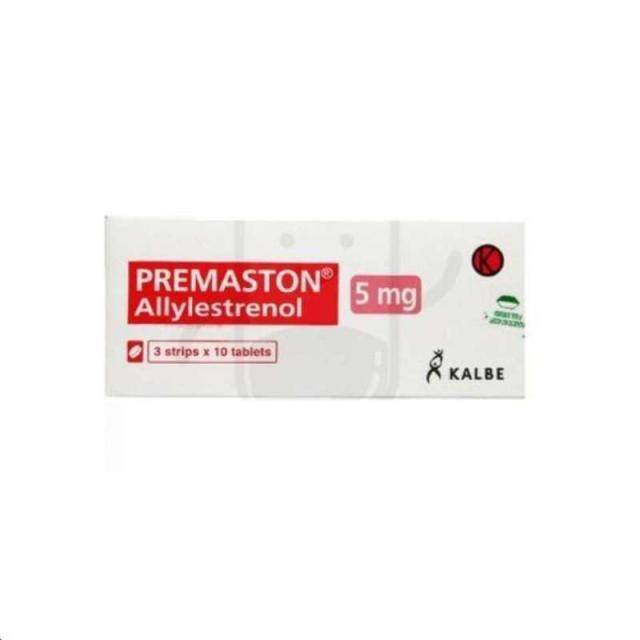drug-name: (136, 267, 320, 294)
